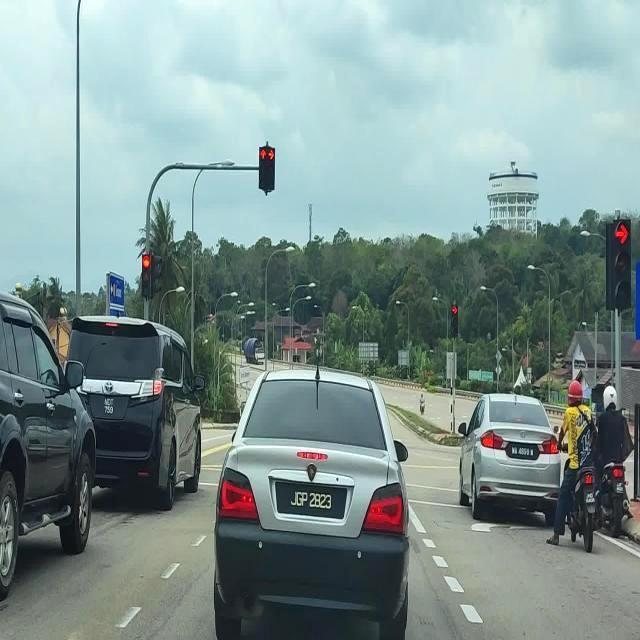Red: (612, 218, 632, 310), (266, 146, 276, 191), (258, 144, 268, 188), (142, 252, 150, 298), (452, 304, 458, 338)
